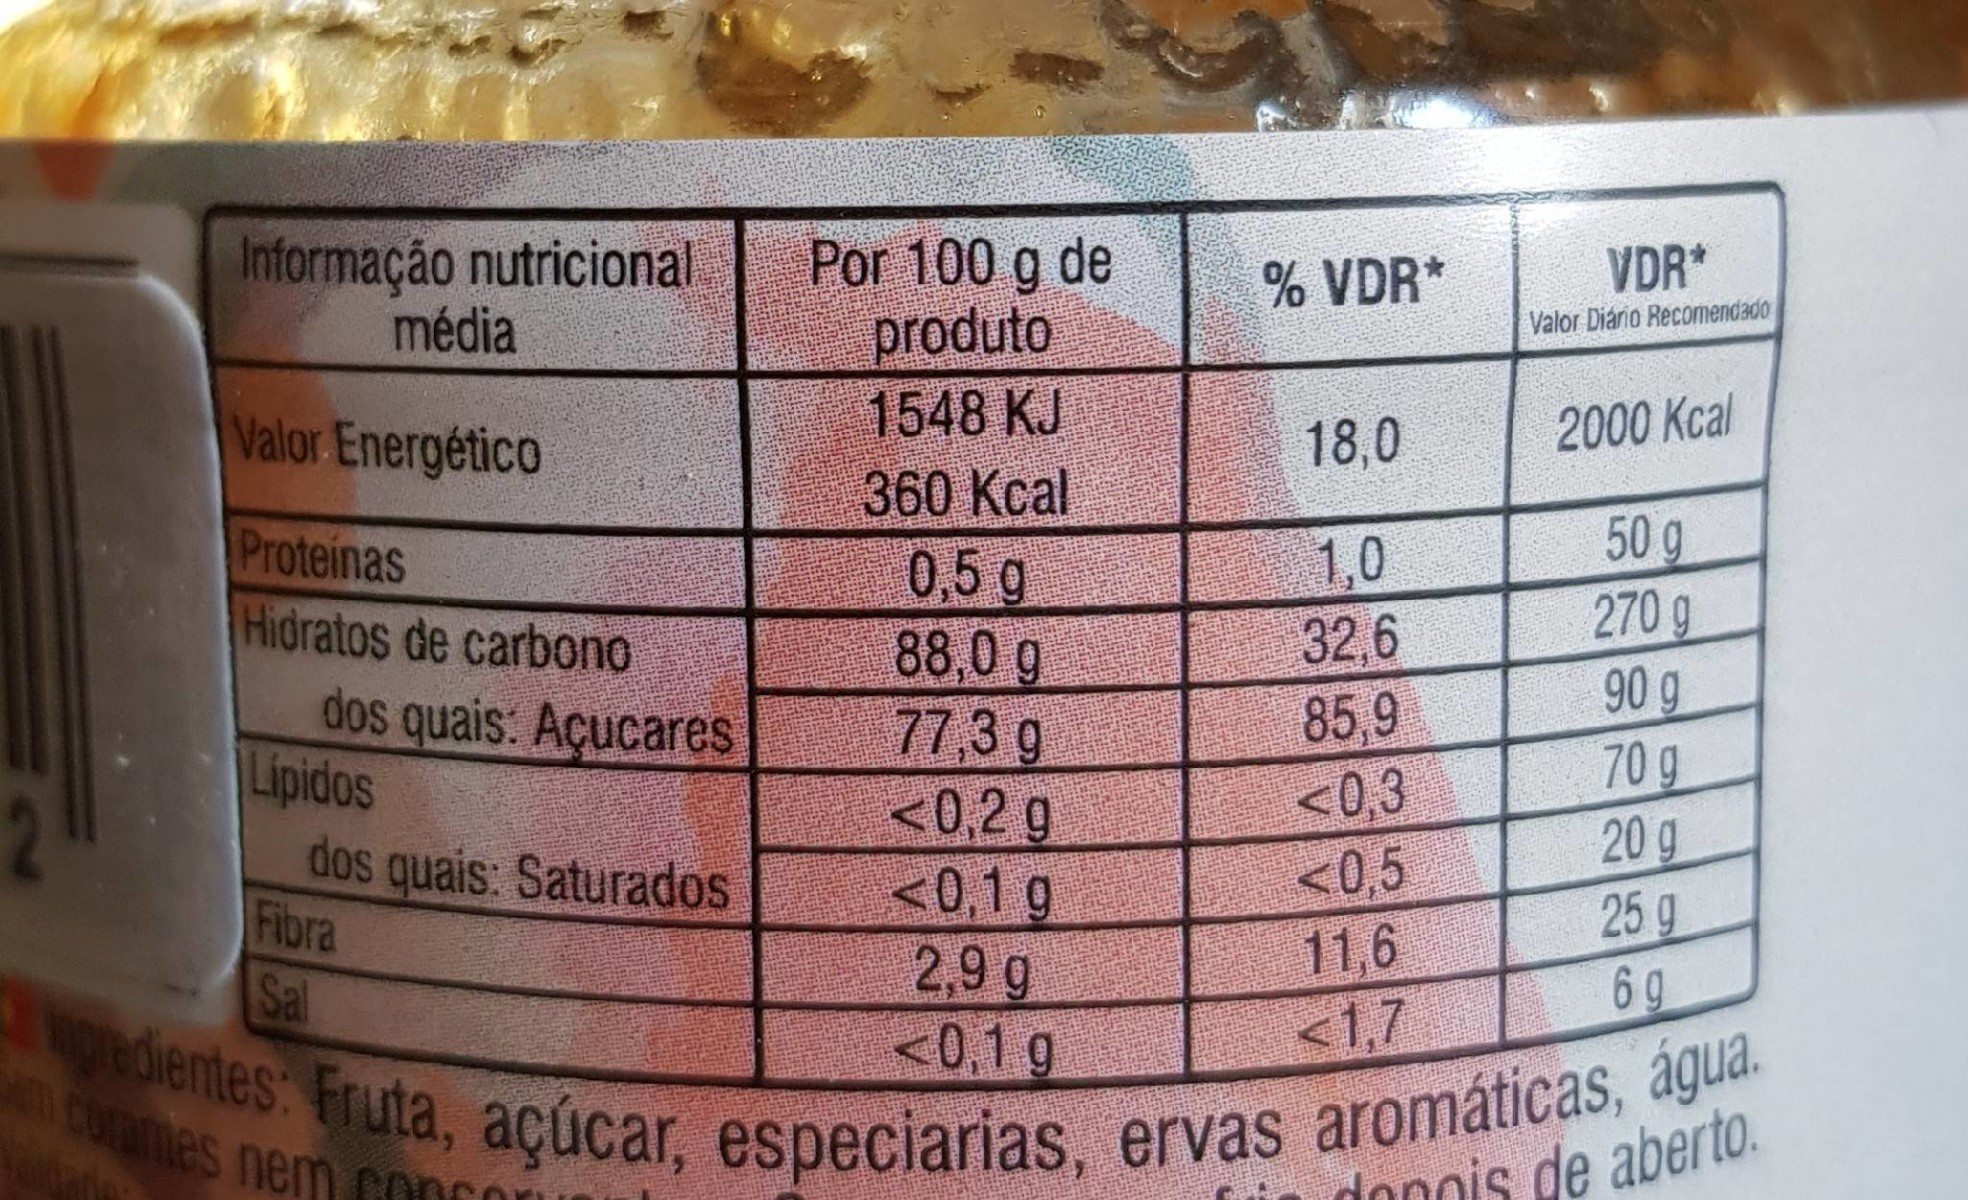column: (233, 235, 734, 1033), (805, 242, 1116, 1078), (1529, 242, 1768, 1003), (1262, 253, 1445, 1045)
table: (204, 202, 1788, 1083)
